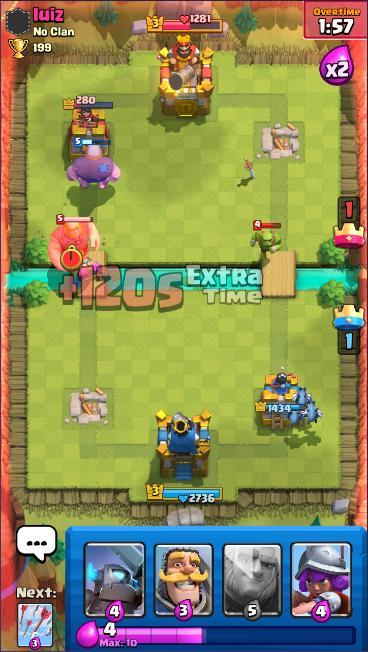ally_archer: (72, 260, 91, 284), (86, 260, 105, 279)
ally_giant: (64, 136, 122, 191)
ally_minion: (300, 400, 323, 425), (284, 403, 306, 429), (292, 385, 313, 409)
enemy_brawler: (248, 219, 285, 260)
enemy_giant: (47, 213, 102, 276)
